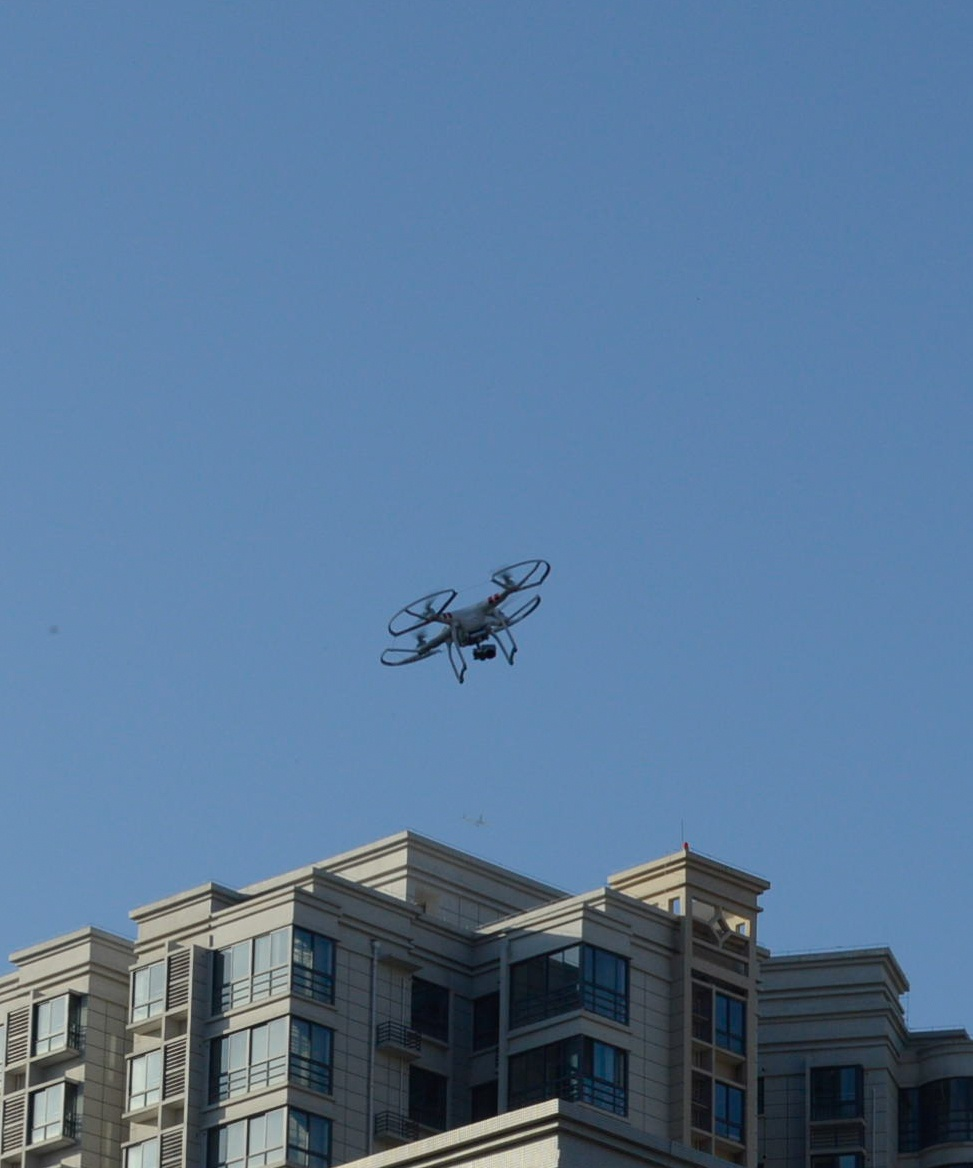DJI: (380, 558, 559, 687)
